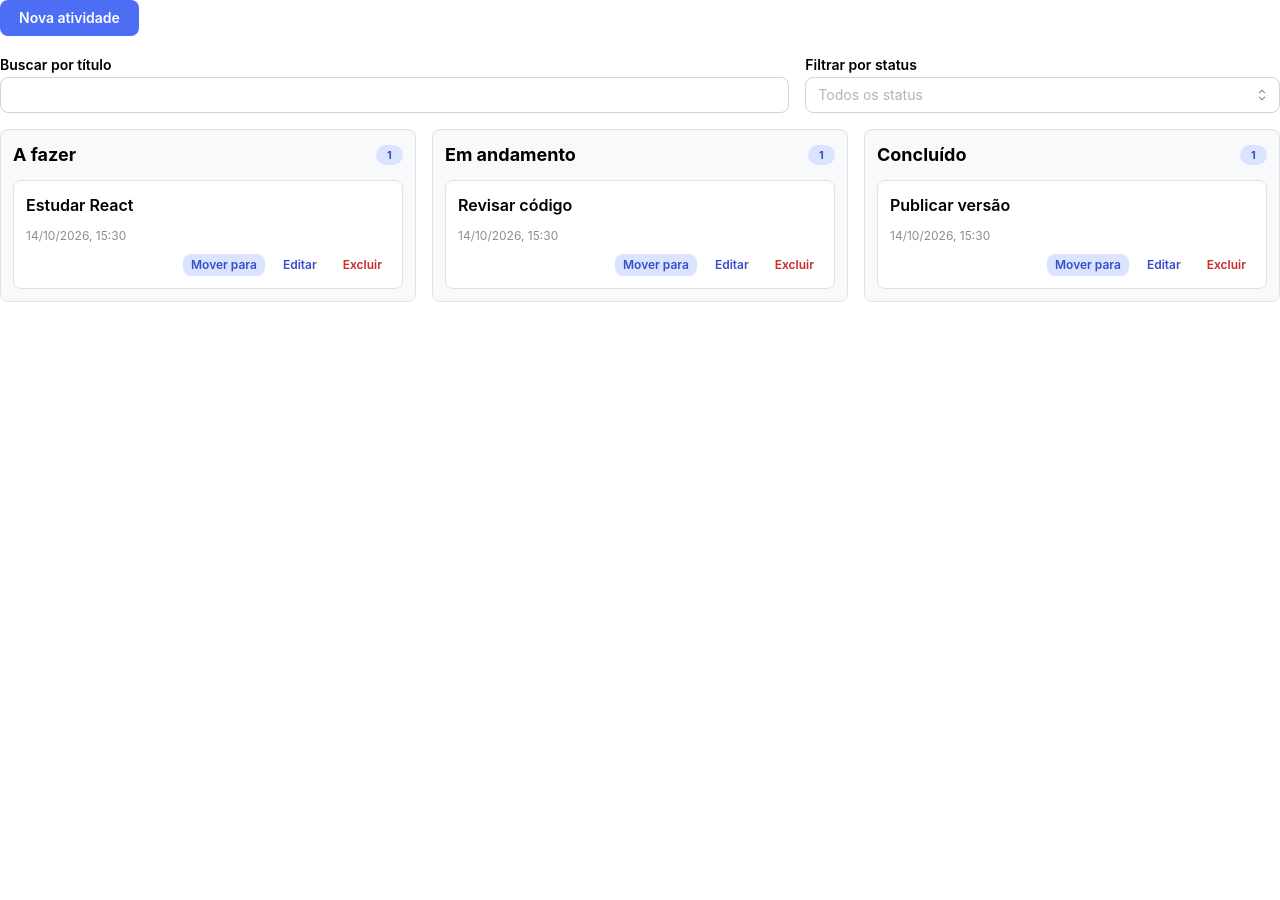
Test: KanbanBoard › criação e edição pelo quadro › abre a edição com os dados do cartão e atualiza o quadro
Click the button "Editar" below "Estudar React": (300, 266) [275, 254, 325, 276]
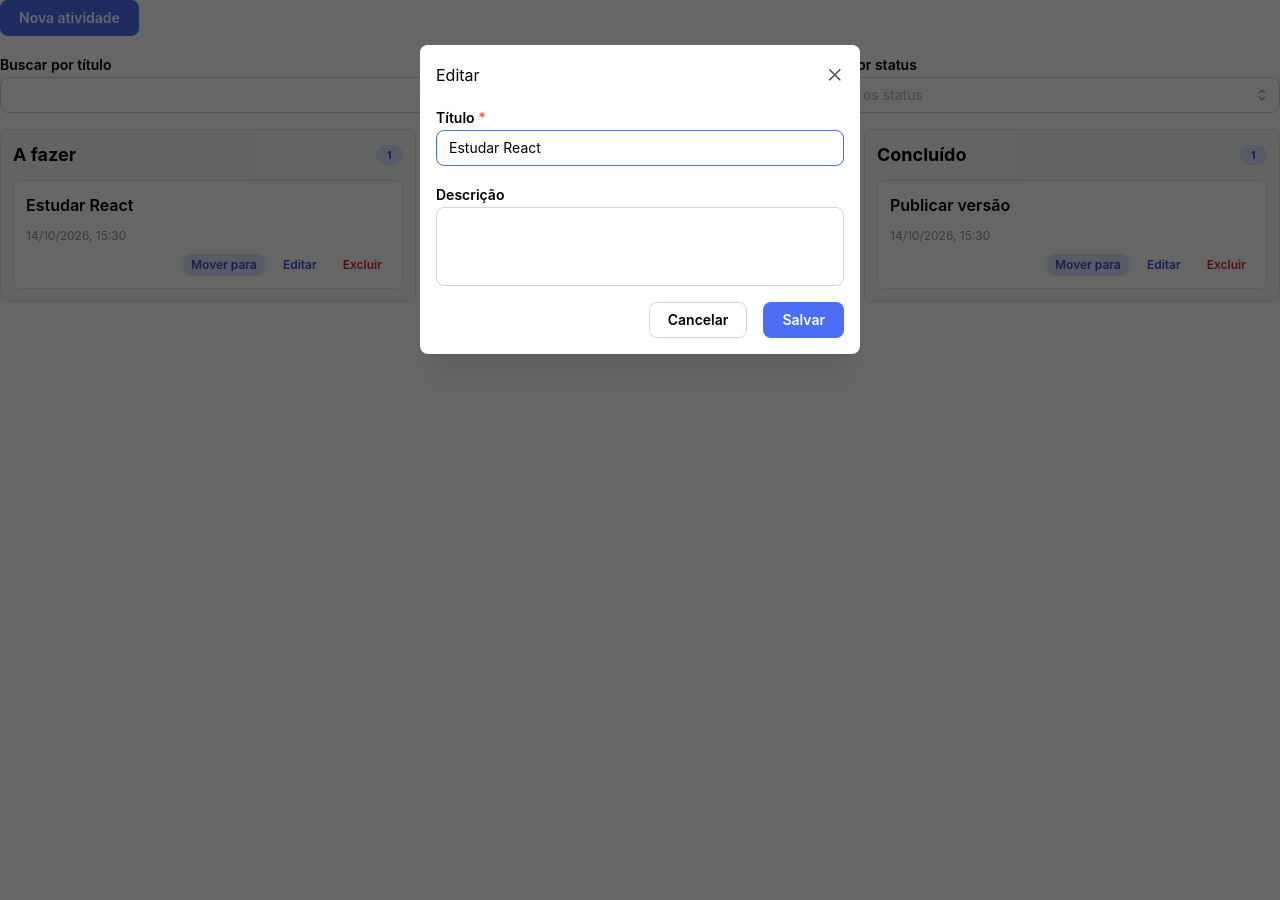
Result: the field labelled "Título *" holds "Estudar React"
Replace the text in the field labelled "Título *" with "Estudar TypeScript": (640, 148) [436, 130, 844, 166]
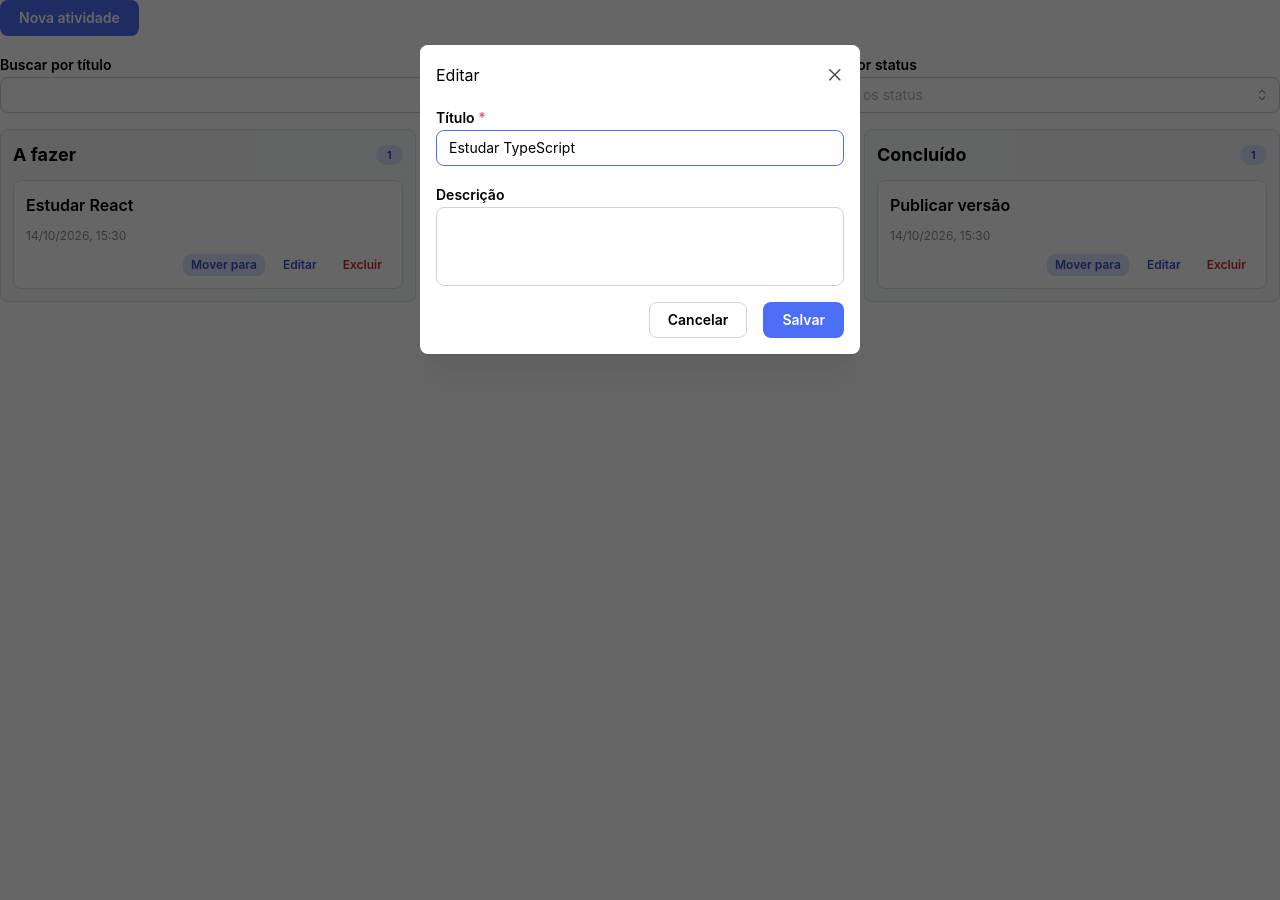
Click the button "Salvar": (804, 320) [763, 302, 844, 338]
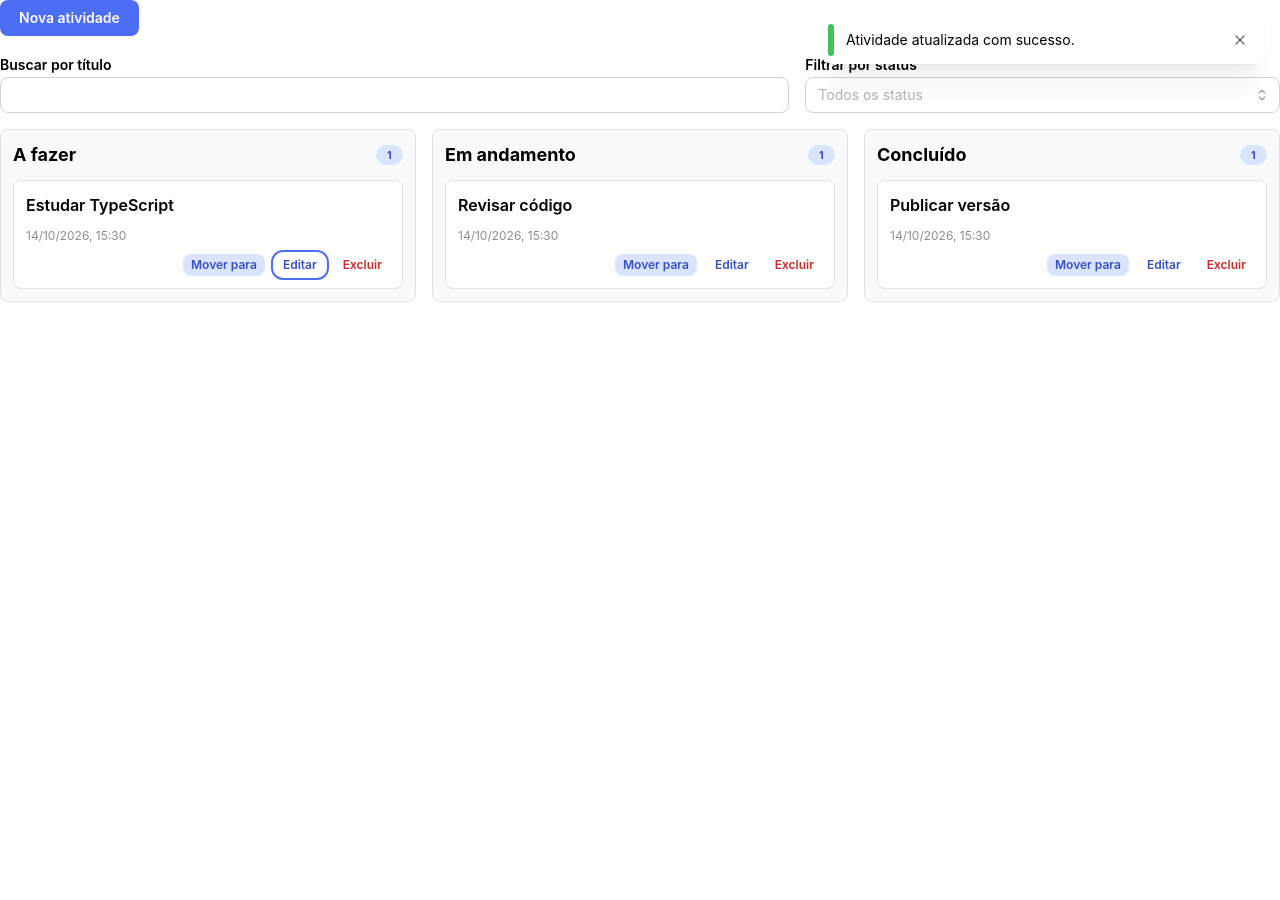
Result: the text "Estudar TypeScript" is shown at [26, 195, 174, 215]
Result: the text "Estudar React" is gone
